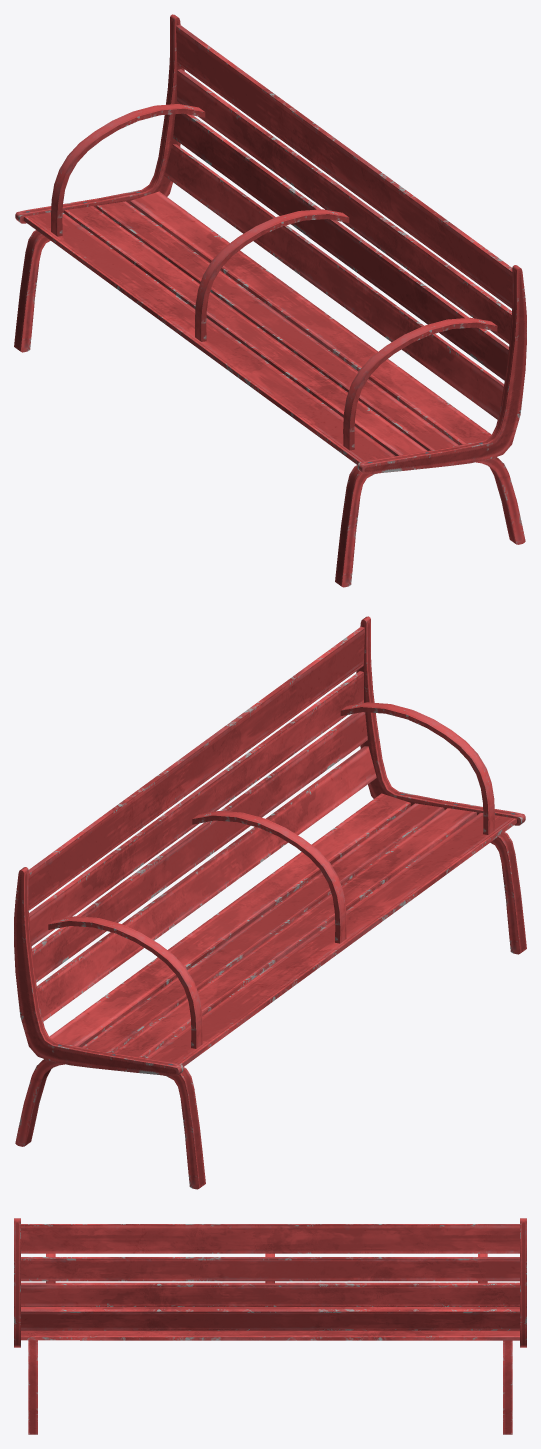
File: MB_Bench_02.fbx
3 views of the same model, one above another, from view 1: azimuth 30°, elevation 25°; view 2: azimuth 150°, elevation 25°; view 3: azimuth 270°, elevation 25° (orthographic). The views are drawn at different scales.
Parts seen in each view (by area): view 1: MB_Bench_02_LOD0; view 2: MB_Bench_02_LOD0; view 3: MB_Bench_02_LOD0.
Part boxes in pixels (bbox=[...]): MB_Bench_02_LOD0: bbox=[14, 14, 526, 587]; MB_Bench_02_LOD0: bbox=[14, 616, 526, 1189]; MB_Bench_02_LOD0: bbox=[14, 1218, 526, 1434].
Size of what is drawn, in the model's own units: 61.13 by 90.79 by 200.
